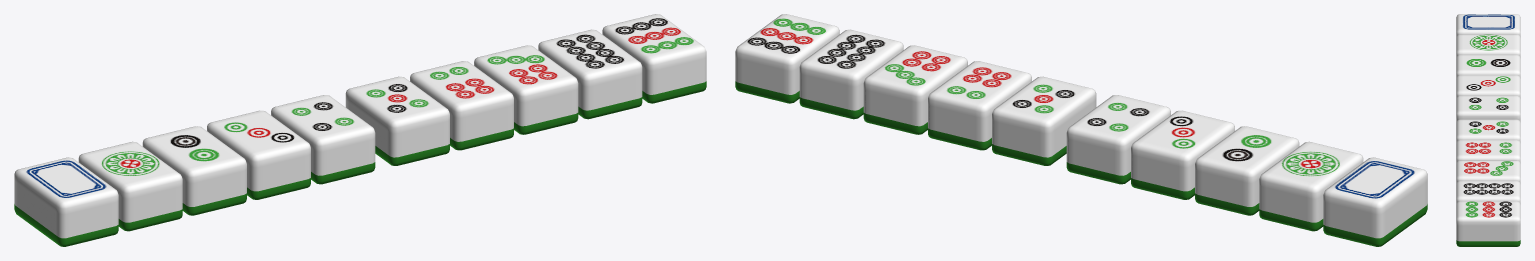
Rendered from mahjong.glb.
3 renders of one model, left to right at view 1: azimuth 30°, elevation 25°; view 2: azimuth 150°, elevation 25°; view 3: azimuth 270°, elevation 25°, orthographic. The views are drawn at different scales.
Parts seen in each view (by area): view 1: Mahjong_root_white_0, Mahjong_root_dot_5, Mahjong_root_dot_2, Mahjong_root_dot_7, Mahjong_root_dot_8, Mahjong_root_dot_9, Mahjong_root_dot_4, Mahjong_root_dot_1, Mahjong_root_dot_3, Mahjong_root_dot_6; view 2: Mahjong_root_white_0, Mahjong_root_dot_5, Mahjong_root_dot_2, Mahjong_root_dot_7, Mahjong_root_dot_8, Mahjong_root_dot_9, Mahjong_root_dot_4, Mahjong_root_dot_1, Mahjong_root_dot_3, Mahjong_root_dot_6; view 3: Mahjong_root_dot_9, Mahjong_root_dot_4, Mahjong_root_dot_2, Mahjong_root_dot_3, Mahjong_root_dot_8, Mahjong_root_dot_1, Mahjong_root_dot_5, Mahjong_root_dot_6, Mahjong_root_dot_7, Mahjong_root_white_0.
Part boxes in pixels (x1=…): Mahjong_root_white_0: x1=14, y1=157, x2=118, y2=246; Mahjong_root_dot_5: x1=345, y1=76, x2=449, y2=165; Mahjong_root_dot_2: x1=142, y1=126, x2=246, y2=215; Mahjong_root_dot_7: x1=474, y1=45, x2=578, y2=134; Mahjong_root_dot_8: x1=538, y1=29, x2=642, y2=119; Mahjong_root_dot_9: x1=602, y1=14, x2=706, y2=103; Mahjong_root_dot_4: x1=271, y1=95, x2=375, y2=184; Mahjong_root_dot_1: x1=78, y1=141, x2=182, y2=231; Mahjong_root_dot_3: x1=207, y1=110, x2=310, y2=199; Mahjong_root_dot_6: x1=410, y1=61, x2=513, y2=150; Mahjong_root_white_0: x1=1323, y1=157, x2=1427, y2=246; Mahjong_root_dot_5: x1=992, y1=76, x2=1096, y2=165; Mahjong_root_dot_2: x1=1195, y1=126, x2=1299, y2=215; Mahjong_root_dot_7: x1=863, y1=45, x2=967, y2=134; Mahjong_root_dot_8: x1=799, y1=29, x2=903, y2=119; Mahjong_root_dot_9: x1=735, y1=14, x2=839, y2=103; Mahjong_root_dot_4: x1=1066, y1=95, x2=1170, y2=184; Mahjong_root_dot_1: x1=1259, y1=141, x2=1363, y2=231; Mahjong_root_dot_3: x1=1131, y1=110, x2=1234, y2=199; Mahjong_root_dot_6: x1=928, y1=61, x2=1031, y2=150; Mahjong_root_dot_9: x1=1456, y1=201, x2=1520, y2=246; Mahjong_root_dot_4: x1=1456, y1=95, x2=1520, y2=121; Mahjong_root_dot_2: x1=1456, y1=55, x2=1520, y2=77; Mahjong_root_dot_3: x1=1456, y1=75, x2=1520, y2=98; Mahjong_root_dot_8: x1=1456, y1=181, x2=1520, y2=203; Mahjong_root_dot_1: x1=1456, y1=34, x2=1520, y2=57; Mahjong_root_dot_5: x1=1456, y1=119, x2=1520, y2=142; Mahjong_root_dot_6: x1=1456, y1=140, x2=1520, y2=162; Mahjong_root_dot_7: x1=1456, y1=160, x2=1520, y2=183; Mahjong_root_white_0: x1=1456, y1=14, x2=1520, y2=36.
Size of the model in its own units: 8.45 by 0.5653 by 1.12.
Materials: 3 (2 with a texture image).
